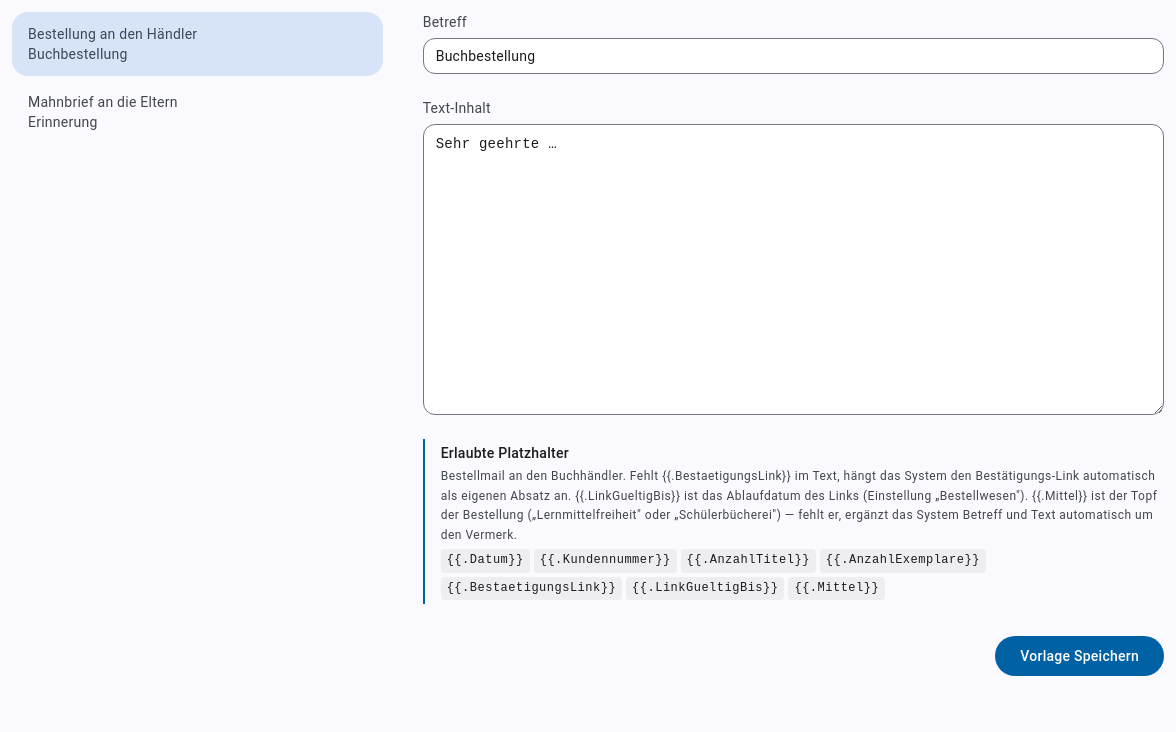
Test: Mail-Vorlagen › kennzeichnet die gewählte Vorlage und wechselt mit einem Klick
Expected: the text box labelled "Text-Inhalt" is shown, [423, 124, 1164, 415]
Click the button "Mahnbrief an die Eltern Erinnerung": (103, 102) [12, 80, 383, 144]
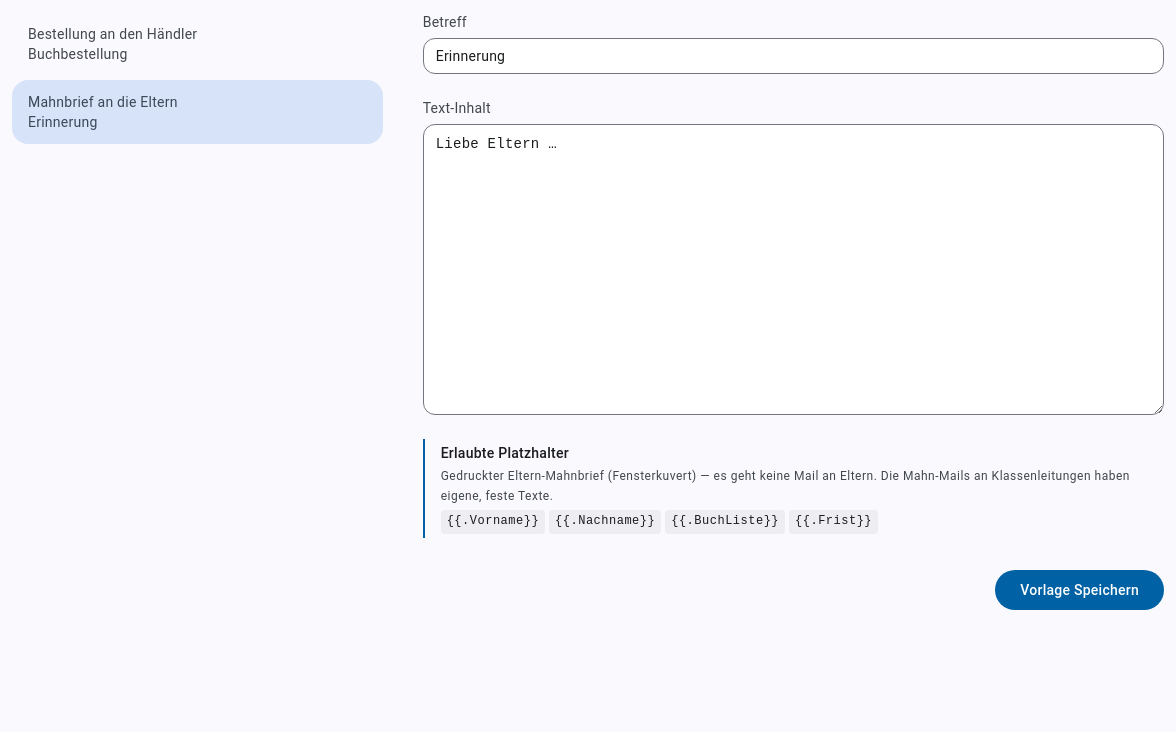
Result: the text box labelled "Text-Inhalt" holds "Liebe Eltern …" at [423, 124, 1164, 415]
